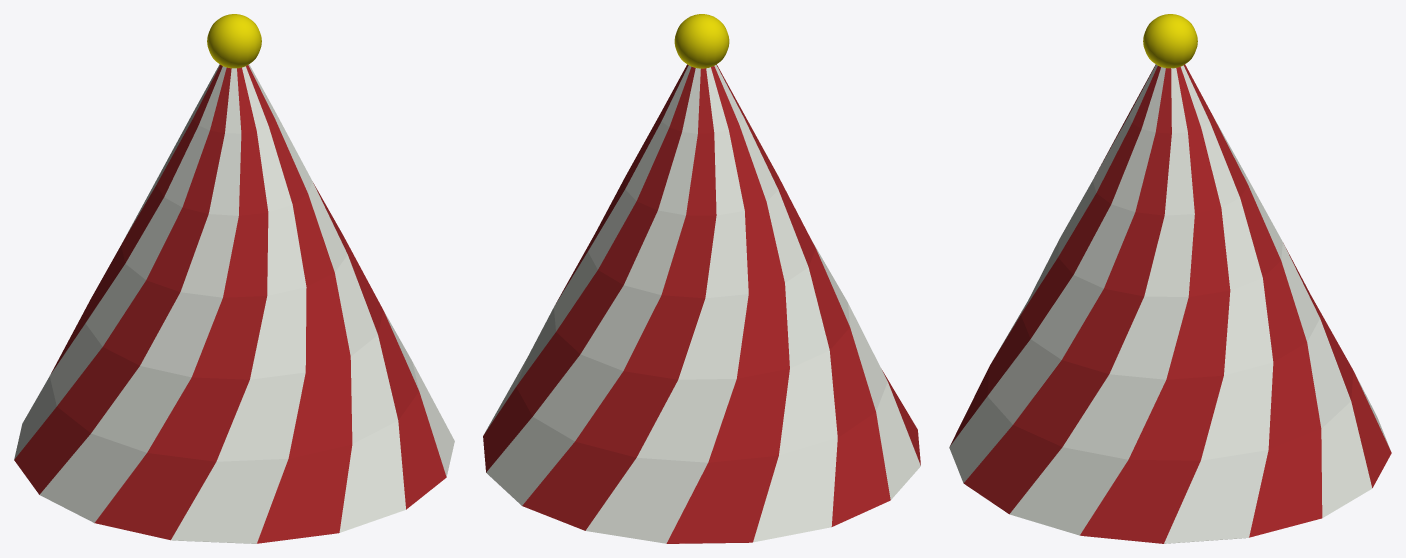
Rendered from Hat.fbx.
3 renders of one model, left to right at view 1: azimuth 30°, elevation 25°; view 2: azimuth 150°, elevation 25°; view 3: azimuth 270°, elevation 25°, orthographic.
Parts seen in each view (by area): view 1: aht; view 2: aht; view 3: aht.
Part boxes in pixels (x1,y1,x2,y2): aht: (14,14,454,543); aht: (483,14,920,543); aht: (949,14,1391,543).
Bounding box in the file's own units: 282 × 308 × 282.
